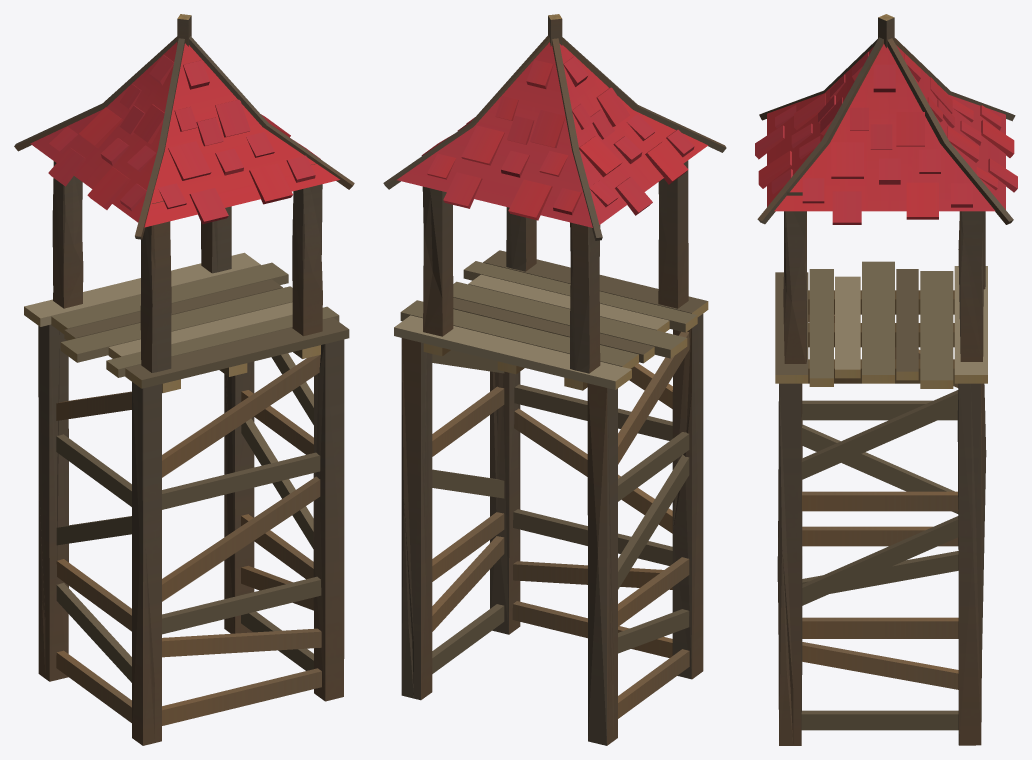
Rendered from Guard_Tower.fbx.
3 renders of one model, left to right at view 1: azimuth 30°, elevation 25°; view 2: azimuth 150°, elevation 25°; view 3: azimuth 270°, elevation 25°, orthographic.
Parts seen in each view (by area): view 1: polySurface9749; view 2: polySurface9749; view 3: polySurface9749.
Part boxes in pixels (left/top/right/bottom): polySurface9749: left=14, top=14, right=354, bottom=745; polySurface9749: left=383, top=14, right=726, bottom=745; polySurface9749: left=755, top=14, right=1017, bottom=745.
Bounding box in the file's own units: 342 × 907 × 320.
